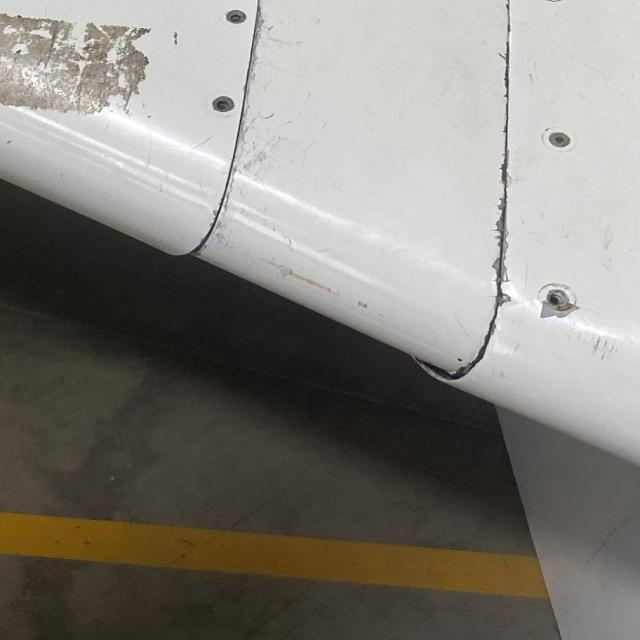Missing-head: (542, 289, 575, 318), (210, 98, 235, 114), (224, 10, 246, 26), (547, 0, 564, 3)
